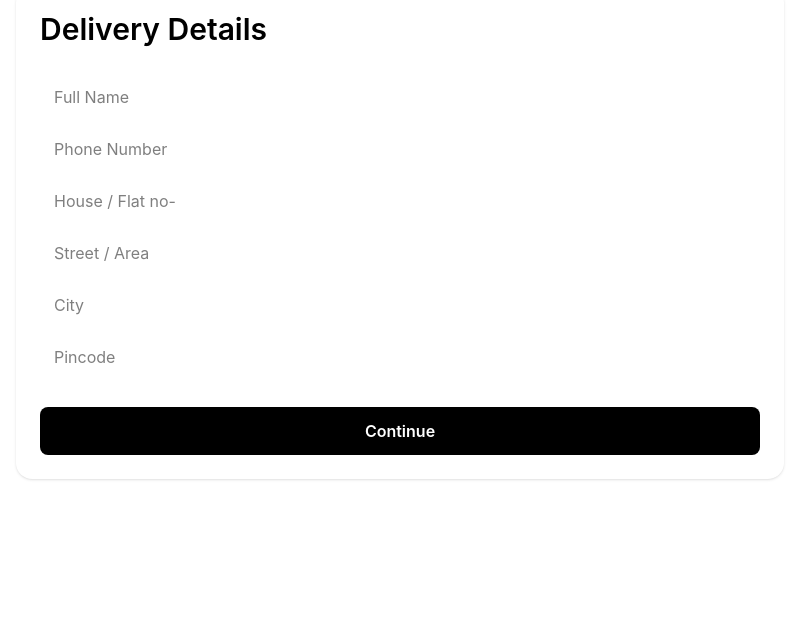
CheckoutForm › show validation error when form is submitted empty
The image size is (801, 641).
Click the button "Continue" at (400,431), box [40,407,760,455]
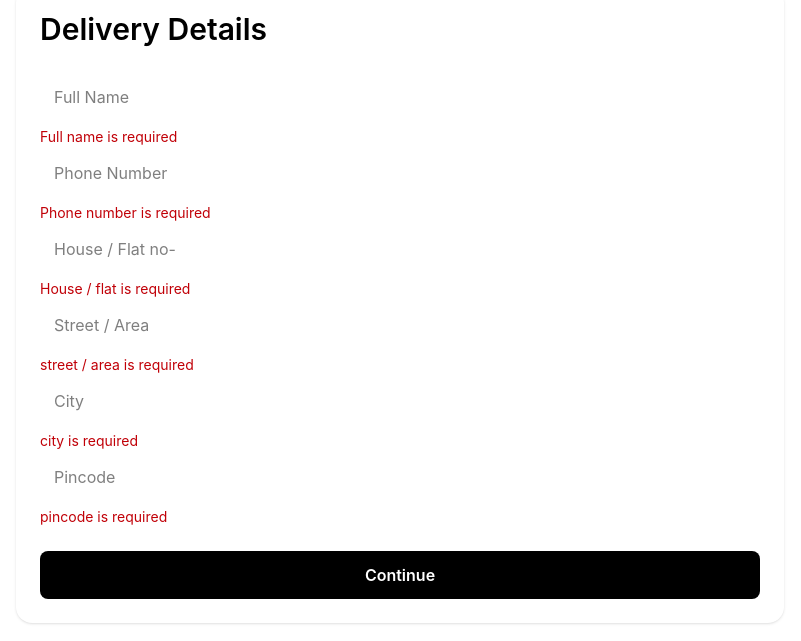
Result: the text "Full name is required" is shown at [40,128,177,145]
Result: the text "Phone number is required" is shown at [40,204,211,221]
Result: the text "House / flat is required" is shown at [40,280,190,297]
